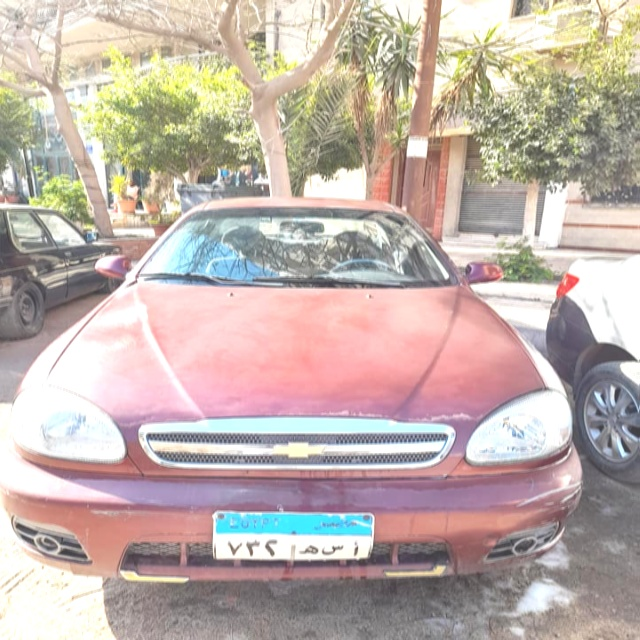License Plate: (211, 509, 377, 563)
